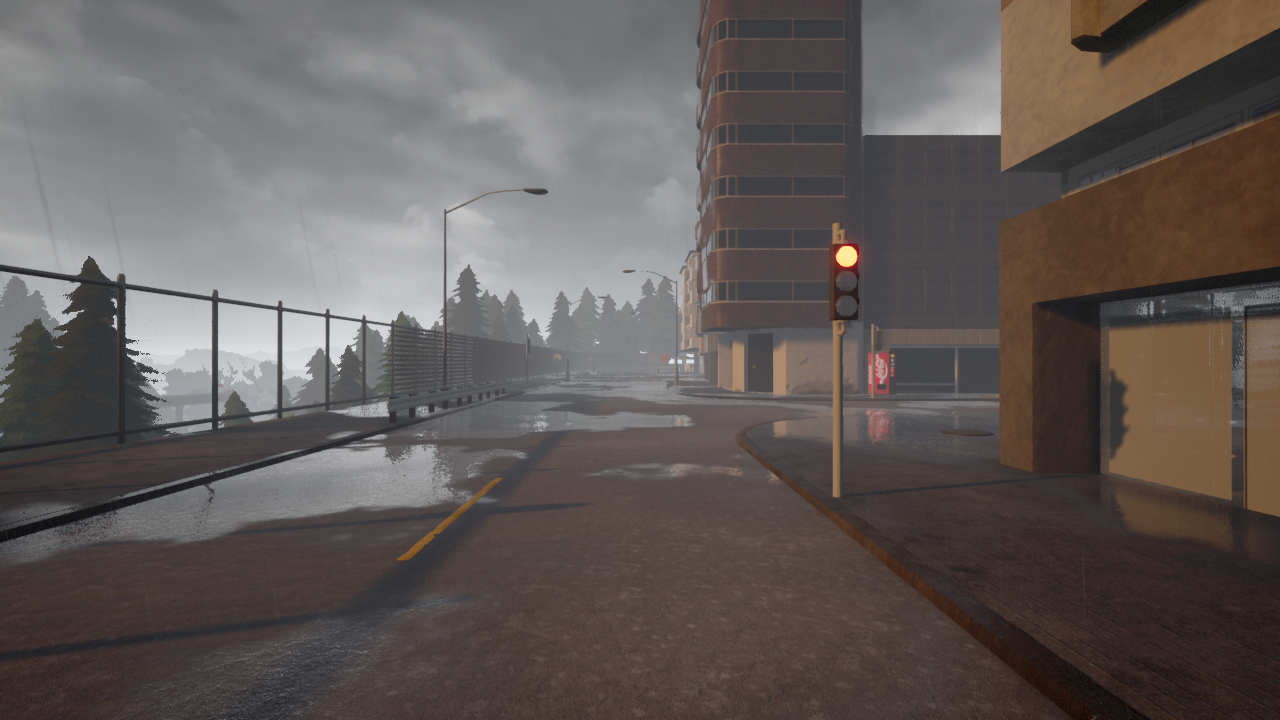red: (827, 241, 859, 320)
